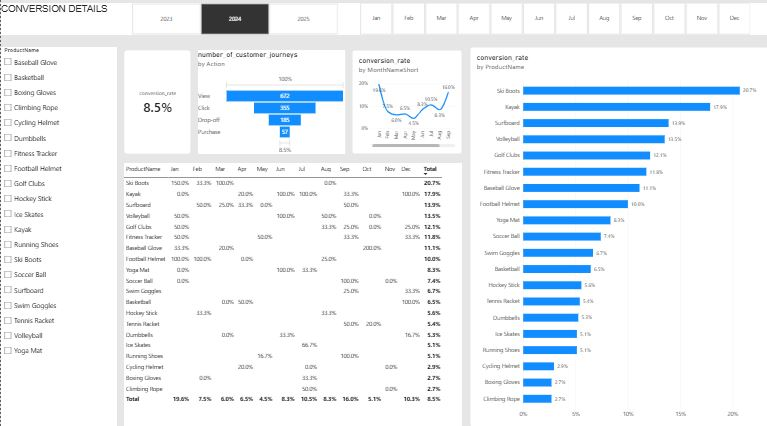

The page's visual inventory and layout, read from the dashboard file:
{"tool":"powerbi","page":{"name":"Conversion Details","canvas":[1920,1080],"ordinal":1},"visuals":[{"type":"textbox","box":[0,10,1920,80],"z":0},{"type":"slicer","fields":{"Values":["products.ProductName"]},"box":[0,120,290,950],"z":1000},{"type":"cardVisual","fields":{"Data":["Calculations.conversion_rate"]},"box":[307.5,127.5,167.5,260],"z":2000},{"type":"slicer","fields":{"Values":["Calendar.Year"]},"box":[307.5,10,552.5,80],"z":3000},{"type":"slicer","fields":{"Values":["Calendar.MonthNameShort"]},"box":[877.5,7.5,1015,82.5],"z":4000},{"type":"lineChart","fields":{"Category":["Calendar.MonthNameShort"],"Y":["Calculations.conversion_rate"]},"box":[877.5,127.5,275,260],"z":5000},{"type":"clusteredBarChart","fields":{"Category":["products.ProductName"],"Y":["Calculations.conversion_rate"]},"box":[1172.5,120,747.5,950],"z":6000},{"type":"pivotTable","fields":{"Columns":["Calendar.MonthNameShort"],"Rows":["products.ProductName"],"Values":["Calculations.conversion_rate"]},"box":[307.5,410,845,660],"z":7000},{"type":"funnel","fields":{"Category":["customer_journey.Action"],"Y":["Calculations.number_of_customer_journeys"]},"box":[492.5,127.5,367.5,260],"z":8000}]}

Visuals, with their boxes in screenshot pixels (x1, y1, x2, y2), scaled from the page's 1920x1080 canvas onto the 767x426 screenshot:
textbox: 0 4 766 36
slicer - products.ProductName: 0 47 116 422
cardVisual - Calculations.conversion_rate: 123 50 190 153
slicer - Calendar.Year: 123 4 344 36
slicer - Calendar.MonthNameShort: 351 3 756 36
lineChart - Calendar.MonthNameShort x Calculations.conversion_rate: 351 50 460 153
clusteredBarChart - products.ProductName x Calculations.conversion_rate: 468 47 766 422
pivotTable - Calendar.MonthNameShort x products.ProductName: 123 162 460 422
funnel - customer_journey.Action x Calculations.number_of_customer_journeys: 197 50 344 153
